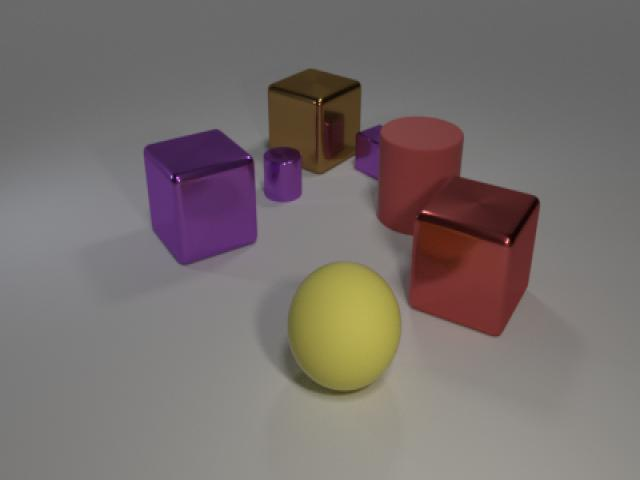cylinder: (376, 113, 466, 238), (261, 141, 307, 208)
round ball: (279, 256, 405, 398)
